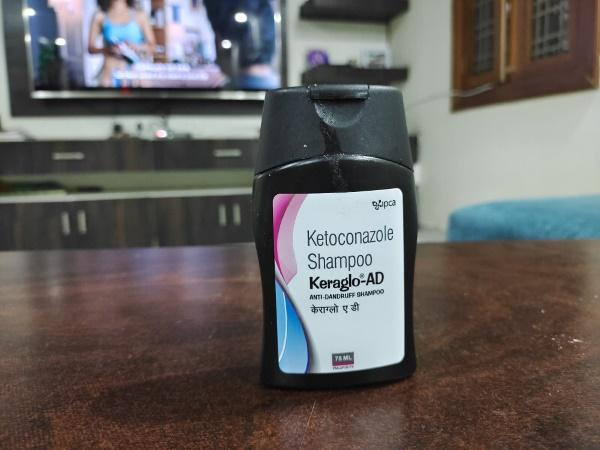KeraGlo: (238, 84, 443, 397)
